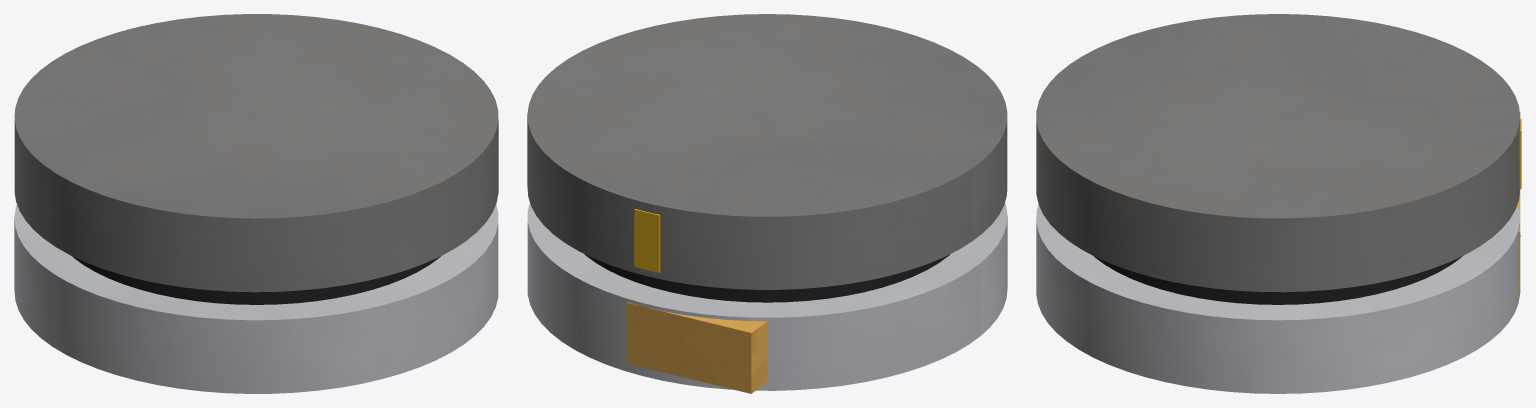
The model's file is robo01_rotor_s_rot90.glb.
3 renders of one model, left to right at view 1: azimuth 30°, elevation 25°; view 2: azimuth 150°, elevation 25°; view 3: azimuth 270°, elevation 25°, orthographic.
Visible parts, largest first — view 1: half_b_rotor, base, bearing; view 2: half_b_rotor, base, drive, bearing, half_b_mark; view 3: half_b_rotor, base, bearing.
Boxes of the visible parts, box(x1,y1,x2,y2) form: half_b_rotor: box(14, 14, 498, 292); base: box(14, 204, 498, 393); bearing: box(72, 256, 440, 304); half_b_rotor: box(527, 14, 1007, 289); base: box(527, 202, 1007, 390); drive: box(626, 302, 767, 393); bearing: box(584, 254, 950, 302); half_b_mark: box(634, 208, 660, 272); half_b_rotor: box(1036, 14, 1520, 292); base: box(1036, 204, 1519, 393); bearing: box(1094, 256, 1462, 304).
Bounding box in the file's own units: 0.6249 × 0.25 × 0.6269.
Materials: 6 (3 with a texture image).
